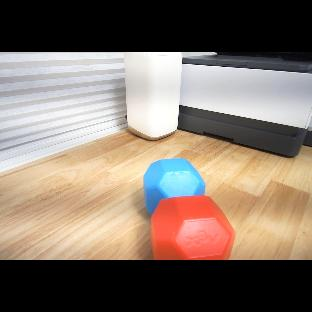V5_BLUE: (143, 158, 205, 215), (144, 161, 205, 196)
V5_RED: (151, 195, 235, 260), (153, 198, 236, 259)
pieces: (142, 151, 237, 260)
